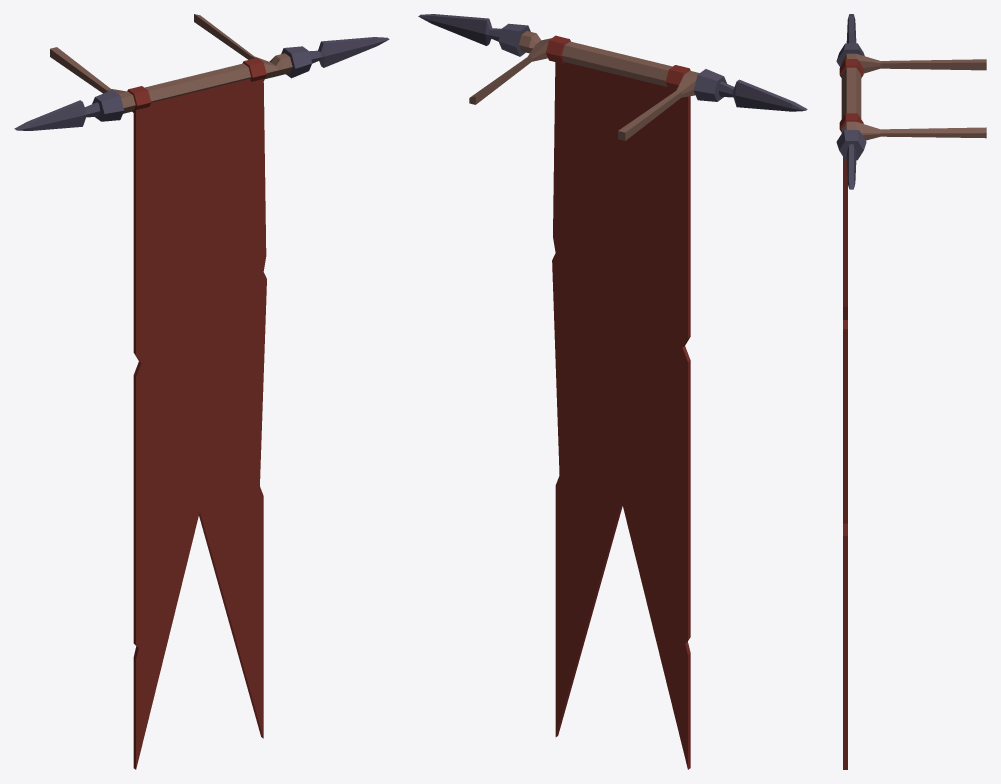
The model's file is Dungeon_Banner_wall.glb.
3 views of the same model, side by side, from view 1: azimuth 30°, elevation 25°; view 2: azimuth 150°, elevation 25°; view 3: azimuth 270°, elevation 25° (orthographic). The views are drawn at different scales.
Visible parts, largest first — view 1: Banner_wall; view 2: Banner_wall; view 3: Banner_wall.
Part boxes in pixels (x1,y1,x2,y2): Banner_wall: [14, 14, 389, 769]; Banner_wall: [418, 14, 807, 769]; Banner_wall: [836, 14, 986, 769].
Bounding box in the file's own units: 1.64 × 2.85 × 0.5929.
